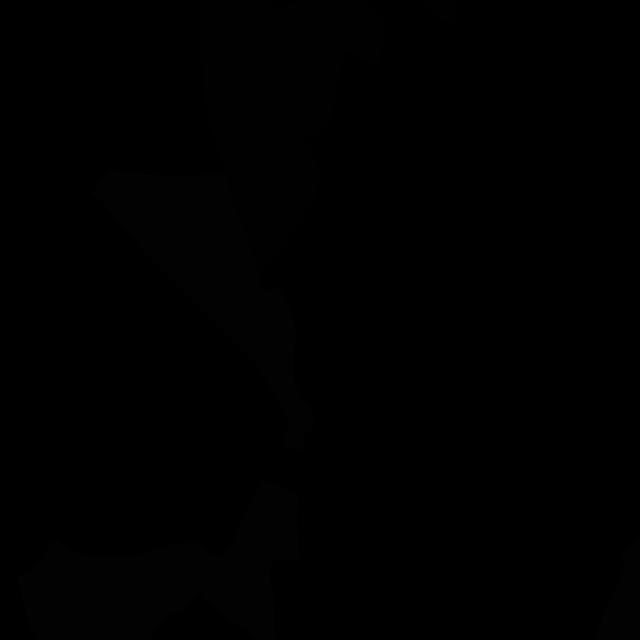cardboard: (91, 168, 315, 450), (16, 480, 299, 640), (593, 534, 640, 640)
rigid_plastic: (199, 0, 318, 278), (280, 0, 384, 140), (423, 0, 455, 23)
